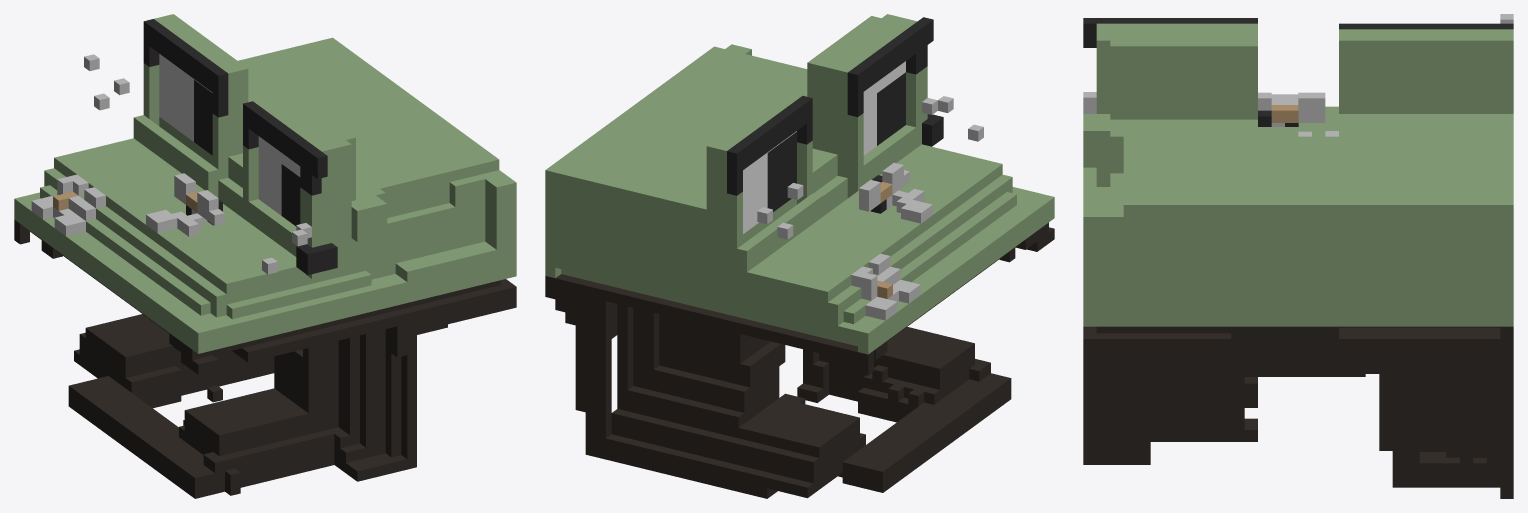
The model's file is Manzano_Paula_Alejandra_Rincón_Otalvaro_fase_4.obj.
3 renders of one model, left to right at view 1: azimuth 30°, elevation 25°; view 2: azimuth 150°, elevation 25°; view 3: azimuth 270°, elevation 25°, orthographic. The views are drawn at different scales.
Visible parts, largest first — view 1: Manzano_Paula_Alejandra_Rincón_Otalvaro_fase_4; view 2: Manzano_Paula_Alejandra_Rincón_Otalvaro_fase_4; view 3: Manzano_Paula_Alejandra_Rincón_Otalvaro_fase_4.
Boxes of the visible parts, x1=… form: Manzano_Paula_Alejandra_Rincón_Otalvaro_fase_4: x1=14, y1=14, x2=516, y2=498; Manzano_Paula_Alejandra_Rincón_Otalvaro_fase_4: x1=545, y1=14, x2=1054, y2=498; Manzano_Paula_Alejandra_Rincón_Otalvaro_fase_4: x1=1083, y1=14, x2=1513, y2=498.
Size of the model in its own units: 32 by 32 by 32.
